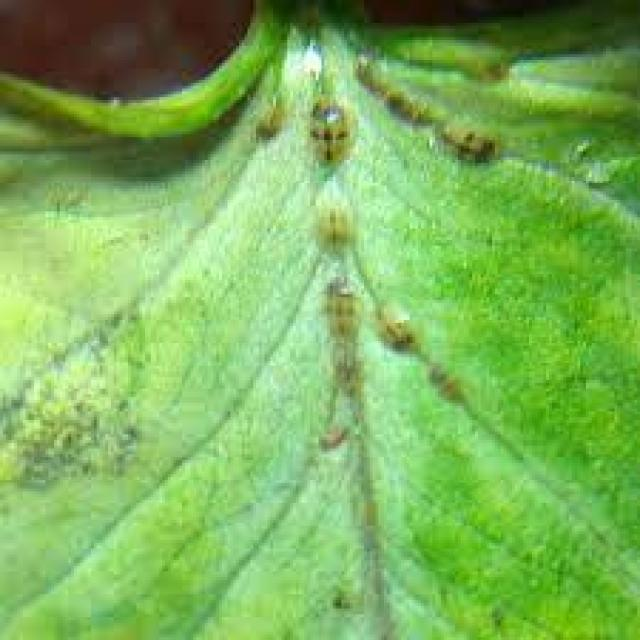scale_insect: (298, 86, 356, 174), (310, 266, 367, 343), (304, 186, 362, 257), (364, 292, 427, 357), (430, 114, 500, 169), (318, 332, 372, 397), (418, 348, 467, 406), (449, 52, 515, 92), (248, 83, 288, 140), (378, 83, 427, 128), (344, 43, 381, 91)
